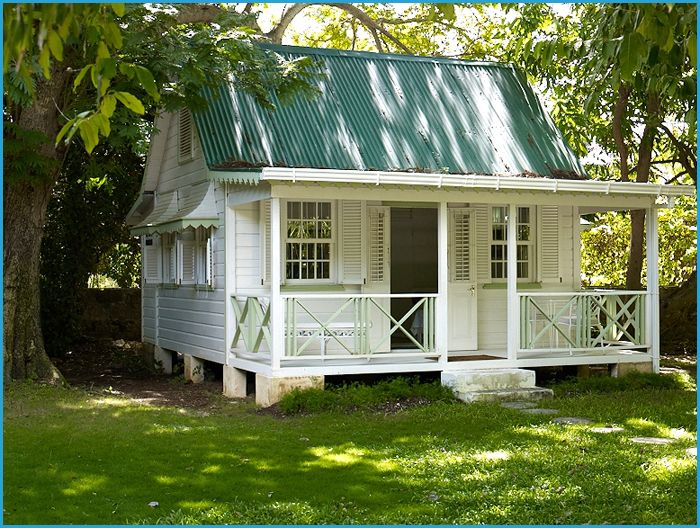Tin-shade House: (141, 28, 677, 387)
